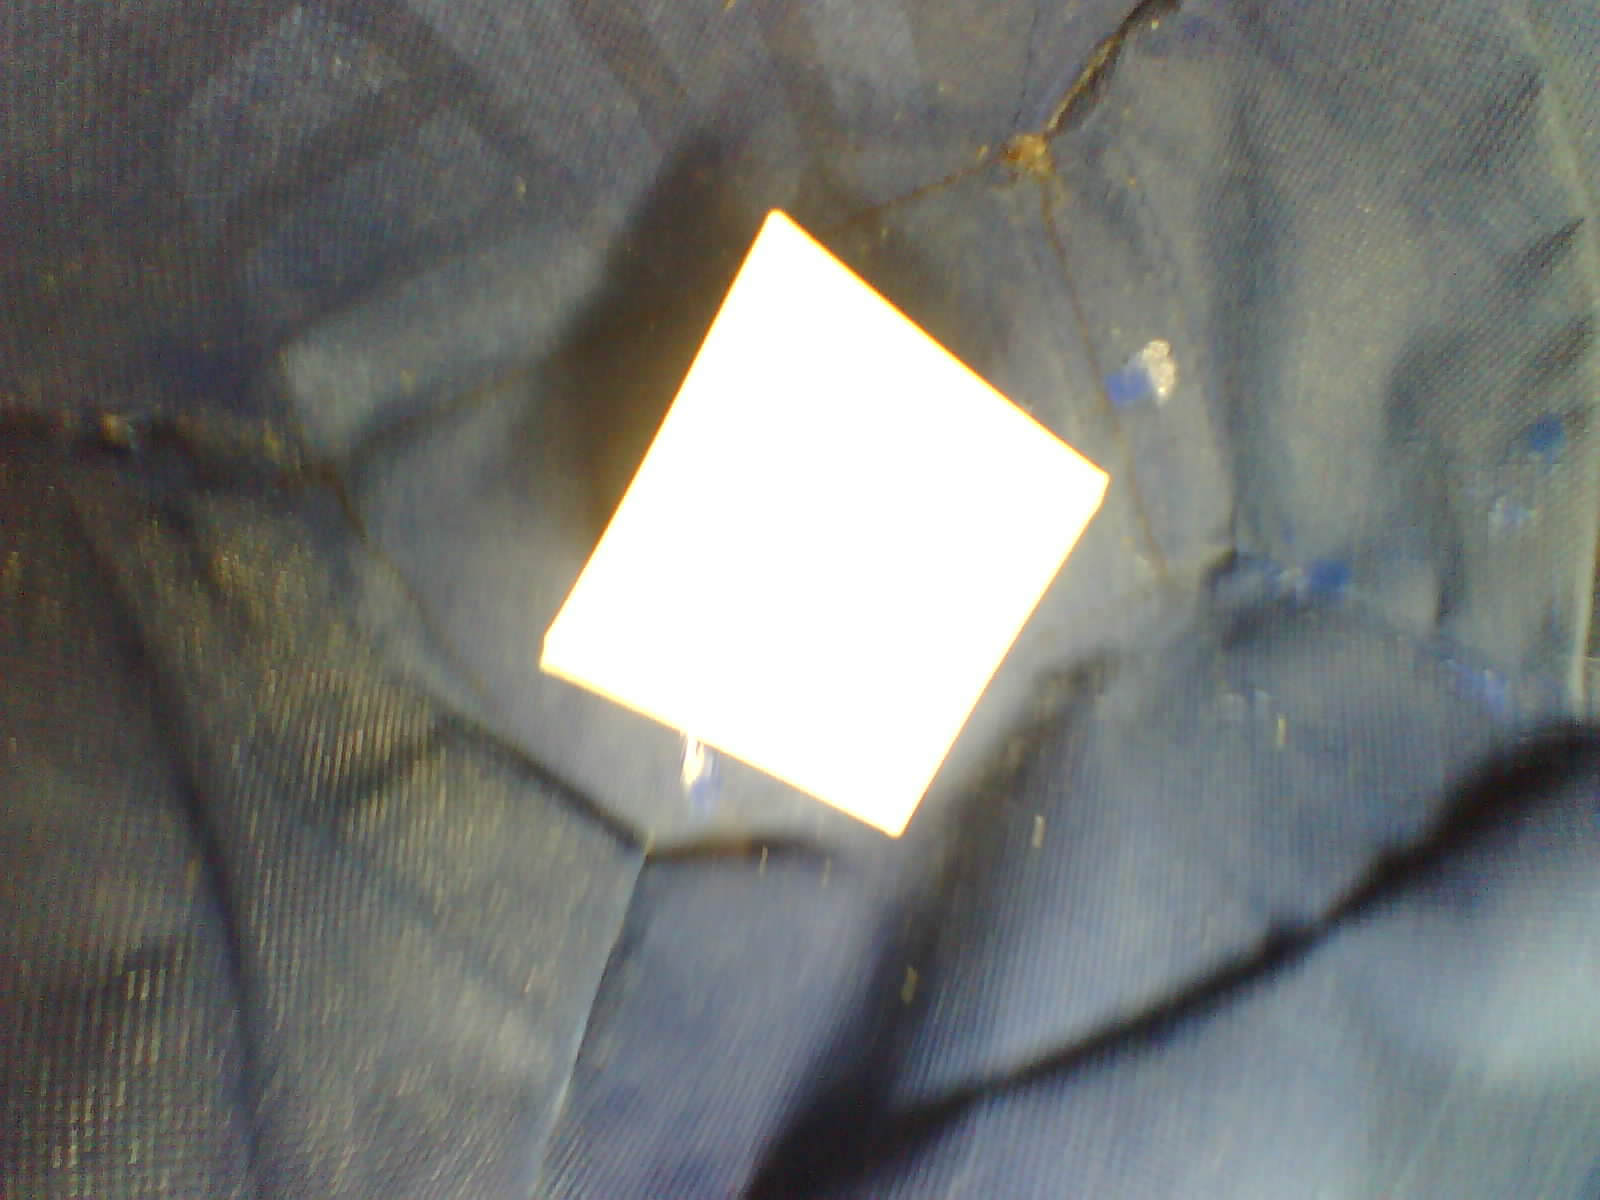cube-hard: (523, 184, 1115, 856)
